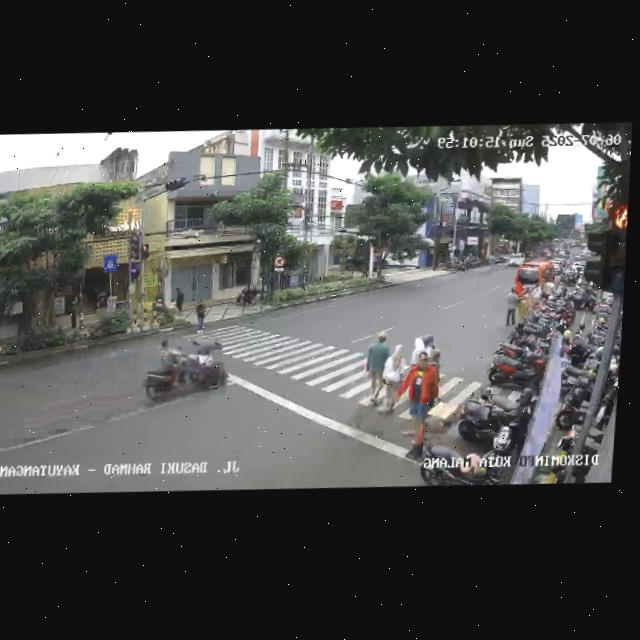car: (511, 259, 551, 299)
motorcycle: (139, 335, 228, 408)
person: (392, 350, 442, 448), (362, 332, 390, 408), (379, 343, 405, 415), (504, 286, 518, 328), (193, 299, 208, 333), (410, 337, 426, 367), (516, 294, 532, 324), (420, 333, 434, 358)
